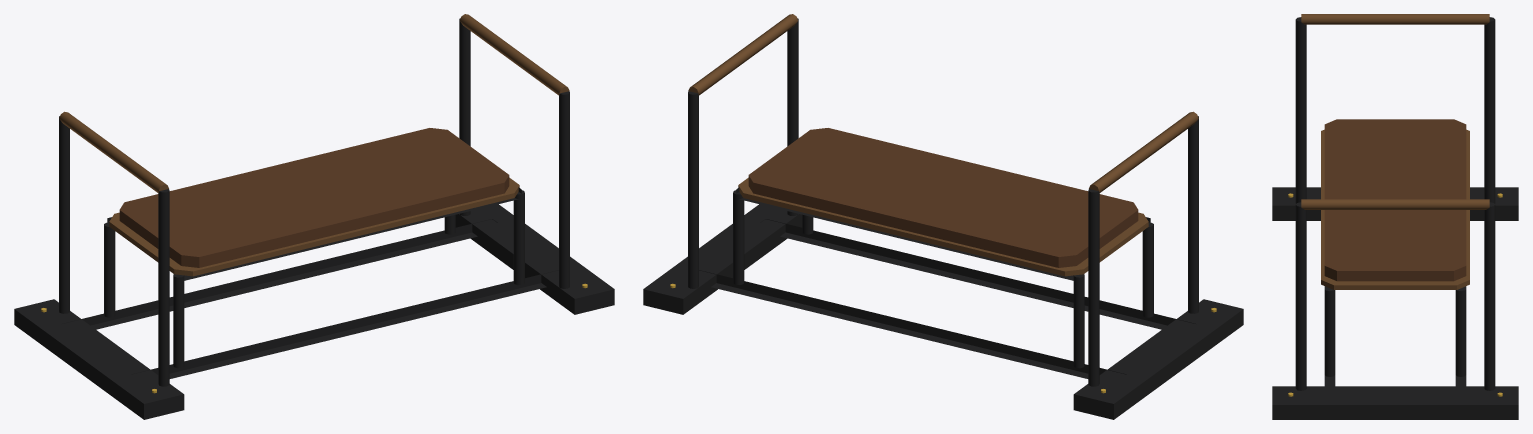
3 views of the same model, side by side, from view 1: azimuth 30°, elevation 25°; view 2: azimuth 150°, elevation 25°; view 3: azimuth 270°, elevation 25° (orthographic). The views are drawn at different scales.
Visible parts, largest first — view 1: parametric-variant-machine-1st-pub-17650ac29b91291d9c34; view 2: parametric-variant-machine-1st-pub-17650ac29b91291d9c34; view 3: parametric-variant-machine-1st-pub-17650ac29b91291d9c34.
Part boxes in pixels (bbox=[...]): parametric-variant-machine-1st-pub-17650ac29b91291d9c34: bbox=[14, 14, 614, 419]; parametric-variant-machine-1st-pub-17650ac29b91291d9c34: bbox=[643, 14, 1243, 419]; parametric-variant-machine-1st-pub-17650ac29b91291d9c34: bbox=[1272, 14, 1518, 419].
Size of the model in its own units: 2.16 by 0.947 by 1.03.
